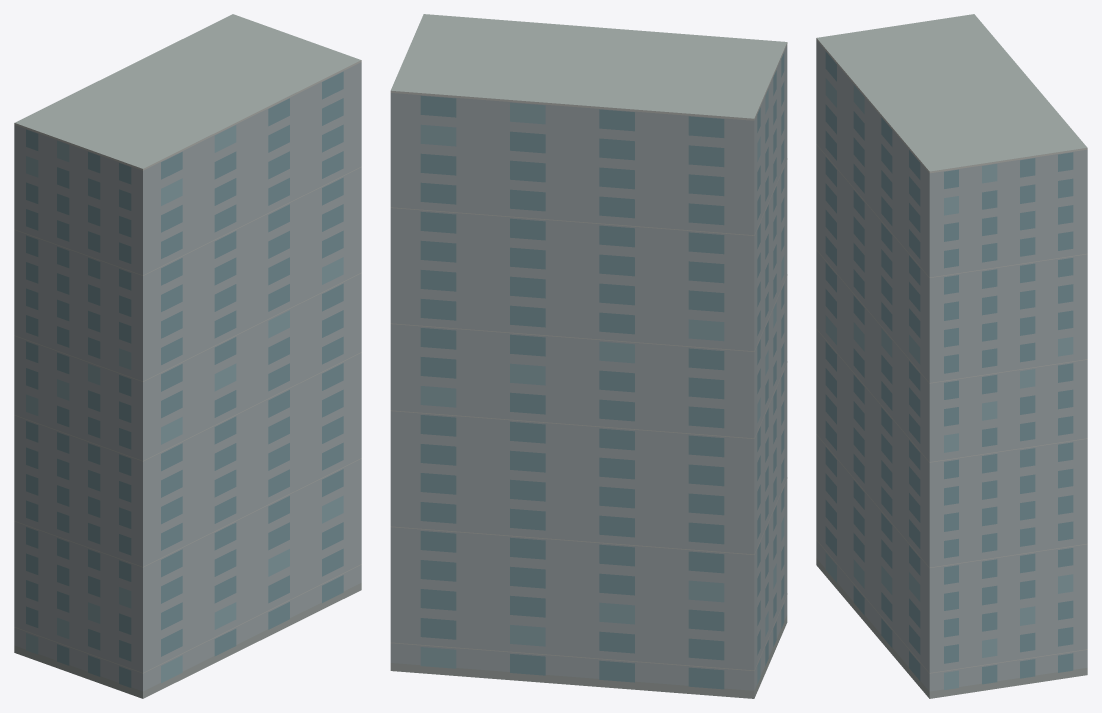
File: residential-f7d90d7d-ad03-4dc1-b26f-7e83f5a8ff6b.glb
The picture shows the model from 3 angles, left to right: view 1: azimuth 30°, elevation 25°; view 2: azimuth 150°, elevation 25°; view 3: azimuth 270°, elevation 25°; orthographic projection. The views are drawn at different scales.
Parts seen in each view (by area): view 1: residential-f7d90d7d-ad03-4dc1-b26f-7e83f5a8ff6b.tmp; view 2: residential-f7d90d7d-ad03-4dc1-b26f-7e83f5a8ff6b.tmp; view 3: residential-f7d90d7d-ad03-4dc1-b26f-7e83f5a8ff6b.tmp.
Boxes of the visible parts, x1=… form: residential-f7d90d7d-ad03-4dc1-b26f-7e83f5a8ff6b.tmp: x1=14, y1=14, x2=361, y2=698; residential-f7d90d7d-ad03-4dc1-b26f-7e83f5a8ff6b.tmp: x1=390, y1=14, x2=787, y2=698; residential-f7d90d7d-ad03-4dc1-b26f-7e83f5a8ff6b.tmp: x1=816, y1=14, x2=1087, y2=698.
Size of the model in its own units: 43.6 by 68 by 31.71.
